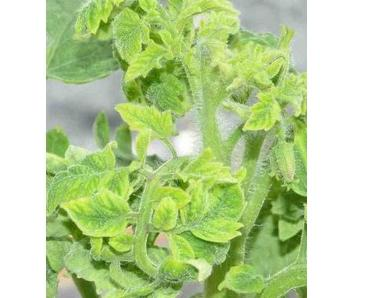Tomato leaf yellow virus: (186, 169, 245, 247), (62, 187, 138, 243), (111, 100, 188, 142), (74, 0, 138, 40), (126, 41, 167, 86), (244, 90, 277, 140)
